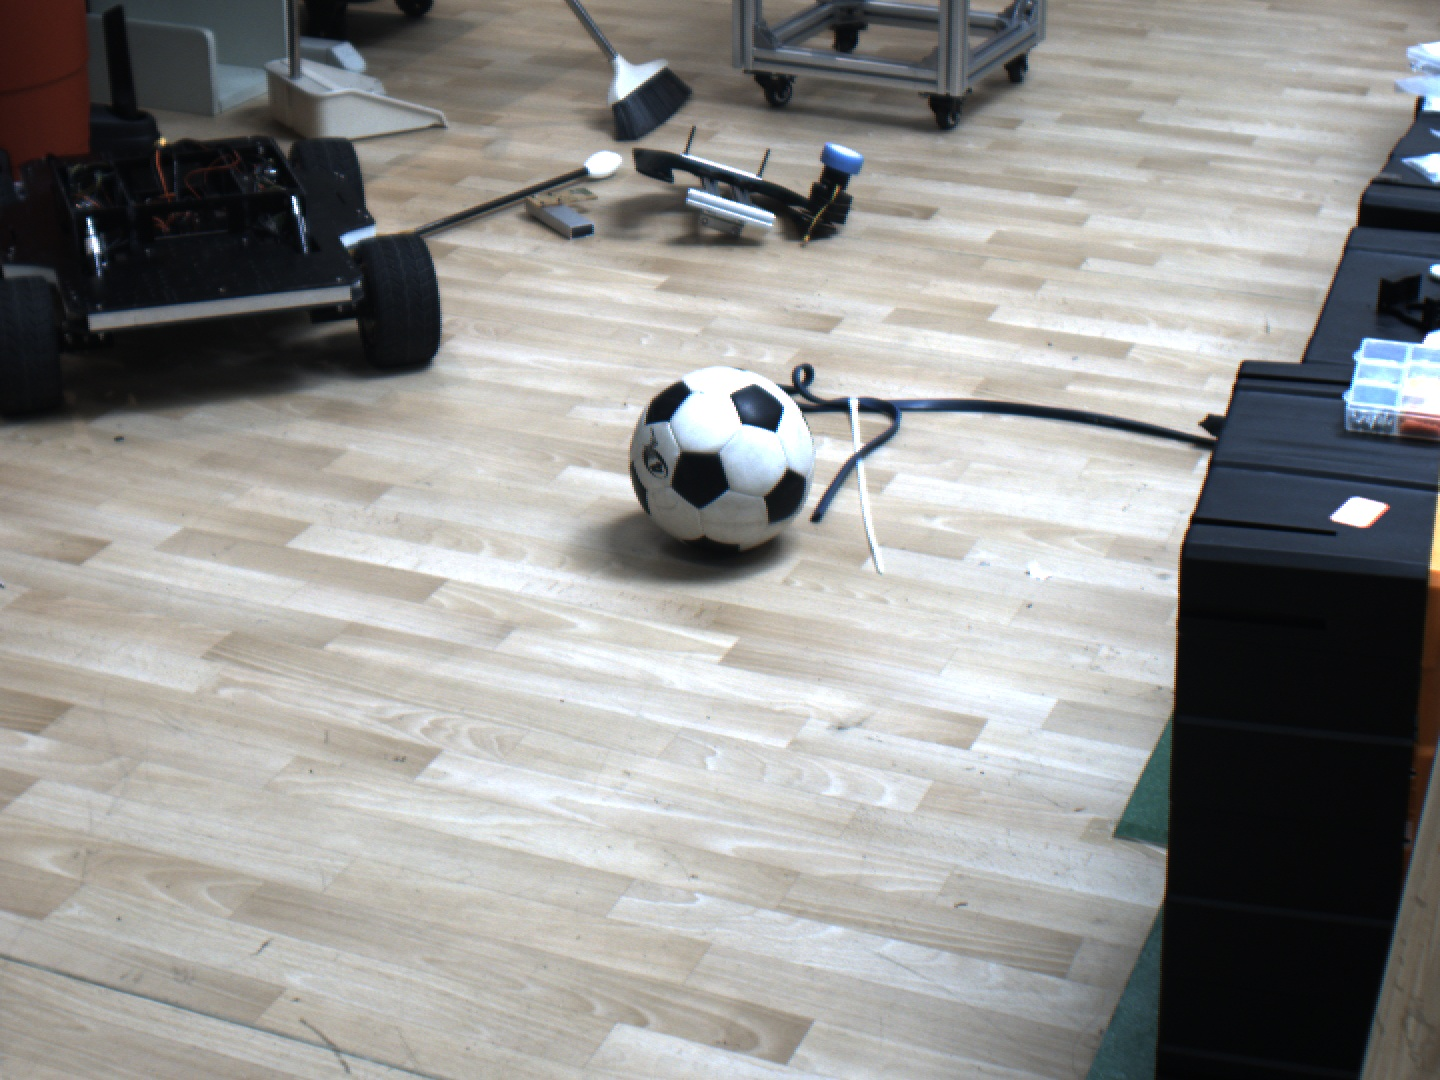ball: (618, 358, 824, 566)
